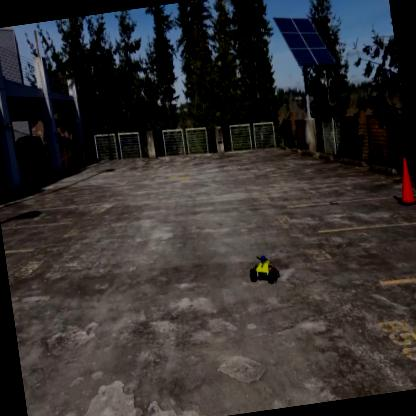cone: (390, 154, 415, 209)
mushr_car: (245, 247, 284, 289)
